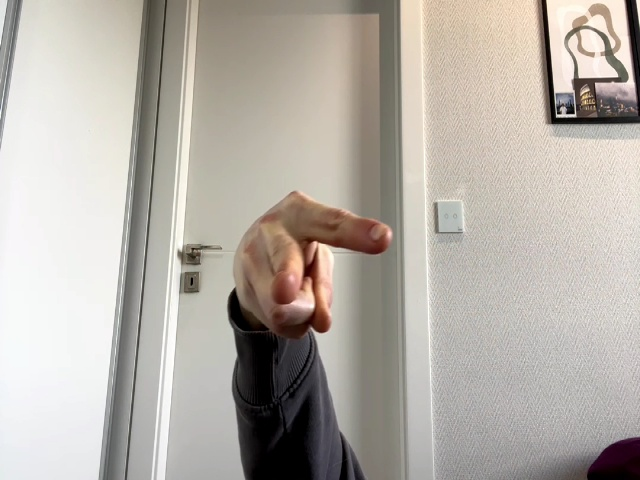U: (234, 191, 393, 340)
